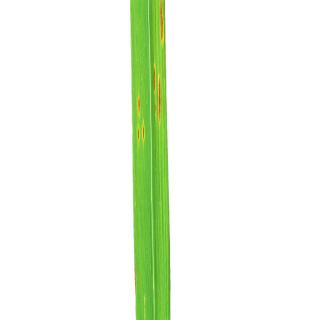Bercak-Cokelat-Sempit: (151, 59, 164, 123), (131, 95, 147, 142), (158, 1, 164, 46)
